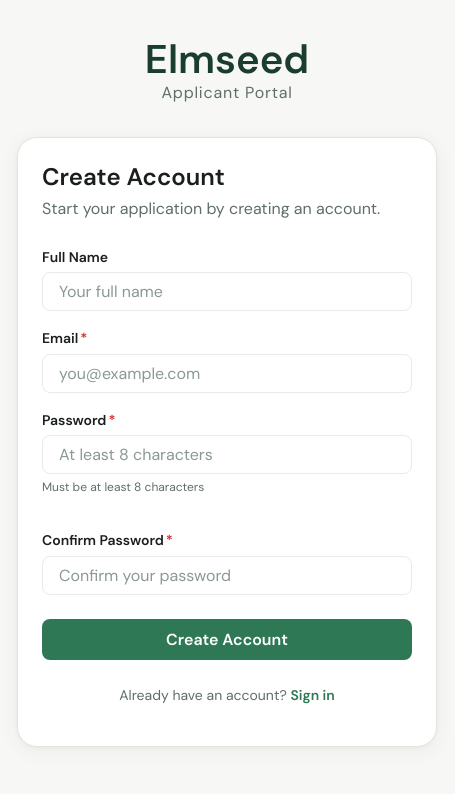
it: SignupPage › Password Validation › should show error when password is too short
Type "Test User" into the field labelled "Full Name" at (227, 292), box [42,272,412,311]
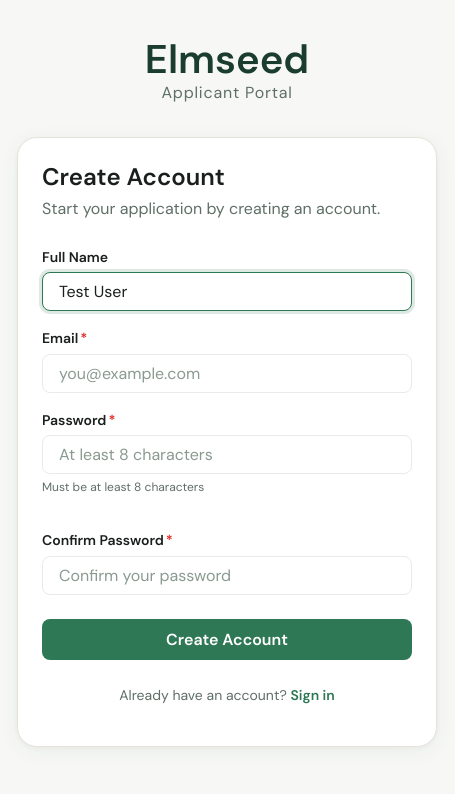
Type "test@example.com" into the field labelled "Email*" at (227, 373), box [42,354,412,393]
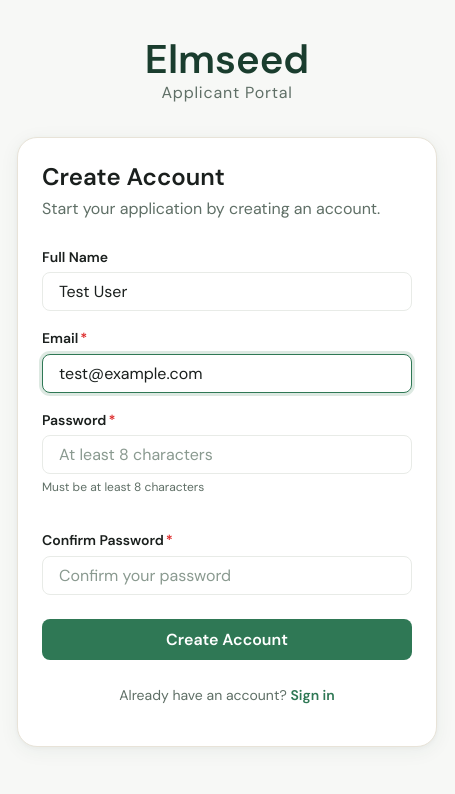
Type "short" into the password field labelled "Password*" at (227, 455), box [42,435,412,474]
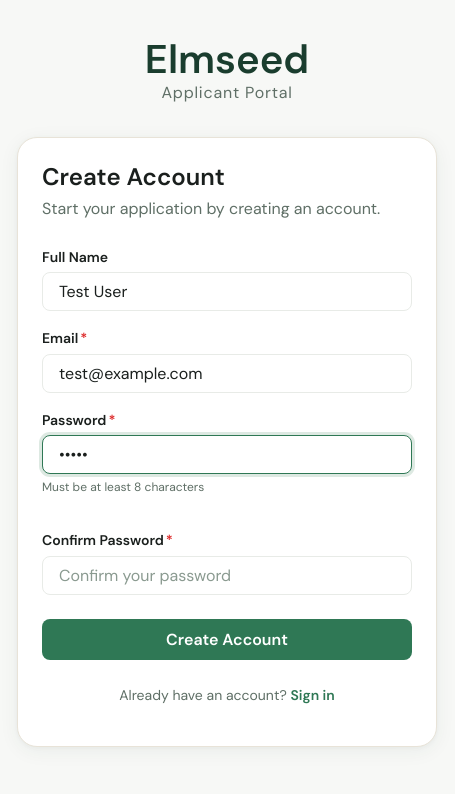
Type "short" into the password field labelled "Confirm Password*" at (227, 575), box [42,556,412,595]
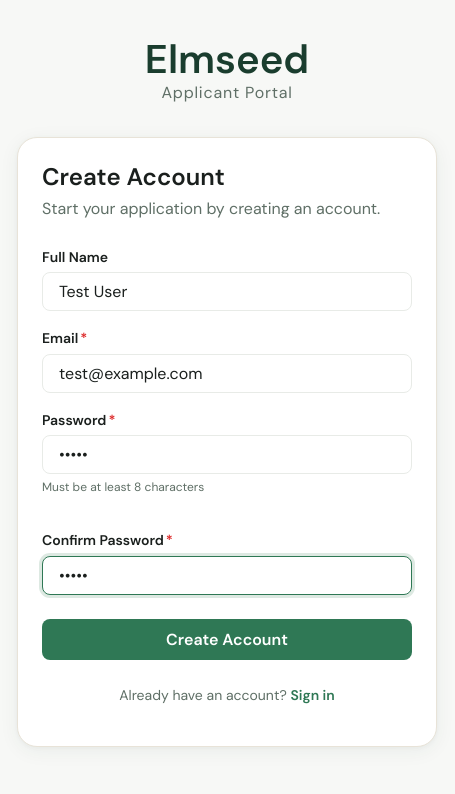
Click the button "Create Account" at (227, 639), box [42,619,412,660]
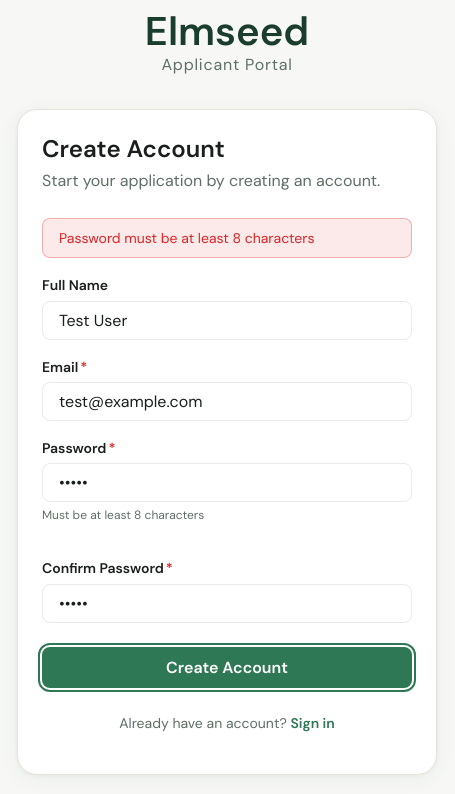
Now the message shows "at least 8 characters", box [59,229,314,247]
